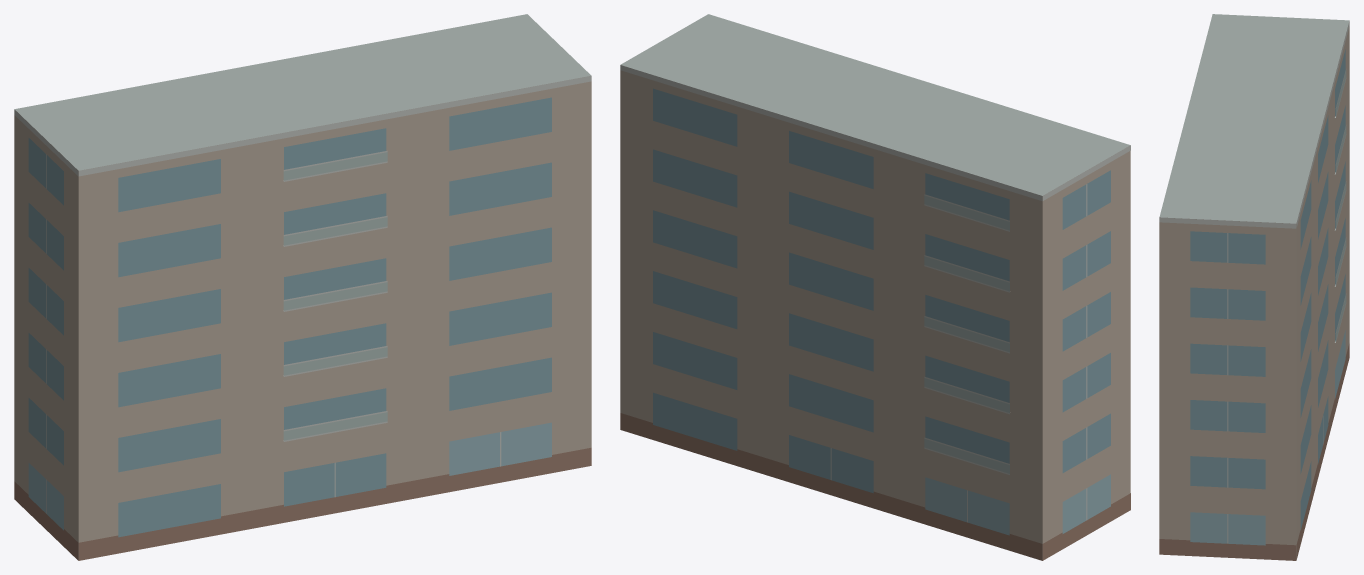
Rendered from survey-upis-32870438.glb.
The picture shows the model from 3 angles, left to right: view 1: azimuth 30°, elevation 25°; view 2: azimuth 150°, elevation 25°; view 3: azimuth 270°, elevation 25°; orthographic projection. The views are drawn at different scales.
Parts seen in each view (by area): view 1: survey-upis-32870438.tmp; view 2: survey-upis-32870438.tmp; view 3: survey-upis-32870438.tmp.
Part boxes in pixels (box(x1,y1,x2,y2)): survey-upis-32870438.tmp: box(14, 14, 591, 560); survey-upis-32870438.tmp: box(620, 14, 1130, 560); survey-upis-32870438.tmp: box(1159, 14, 1349, 560).
Size of the model in its own units: 22.15 by 16.6 by 8.5.
